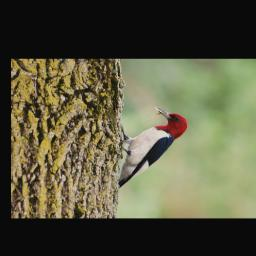Woodpecker: (119, 108, 188, 187)
